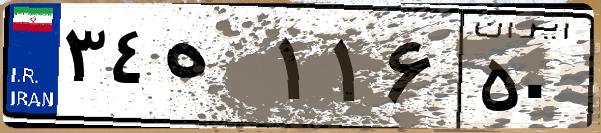0: (525, 38, 570, 115)
1: (270, 28, 330, 110), (330, 28, 385, 110)
3: (57, 26, 110, 100)
4: (110, 28, 158, 98)
5: (475, 38, 525, 113)
6: (385, 28, 445, 110)
ه: (158, 20, 270, 120)
